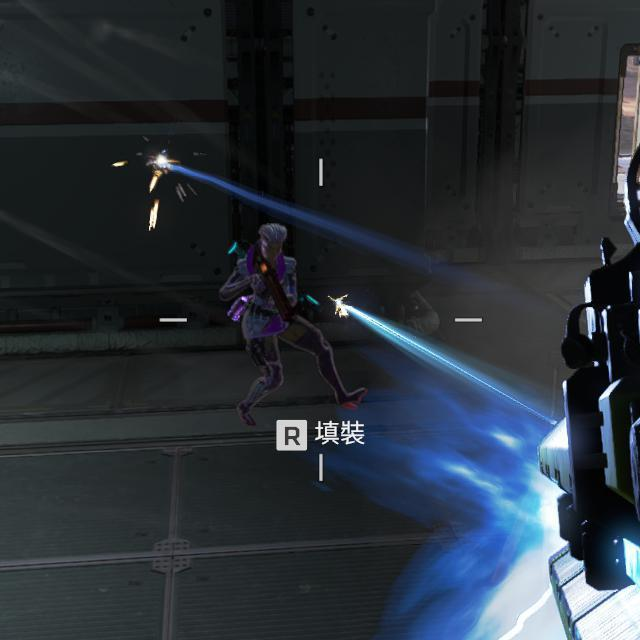avatar: (220, 222, 303, 432)
